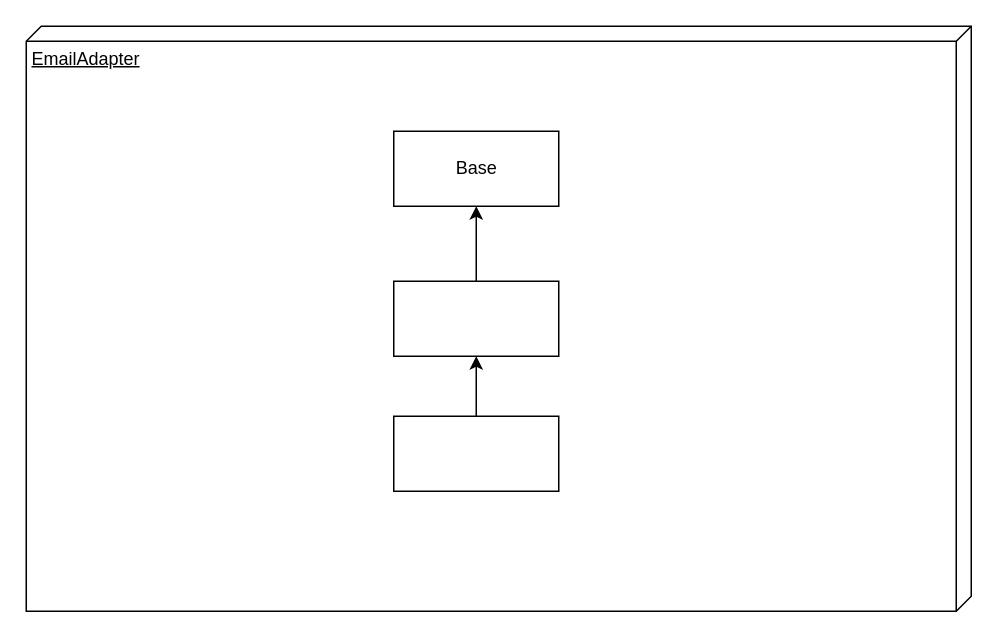
Some shapes in this 998 by 638 pixel diagram are drawn without their labels. Each missing label, with the centre of its shape:
"__main__" goes at [475,453].
"Freemail" goes at [475,318].
